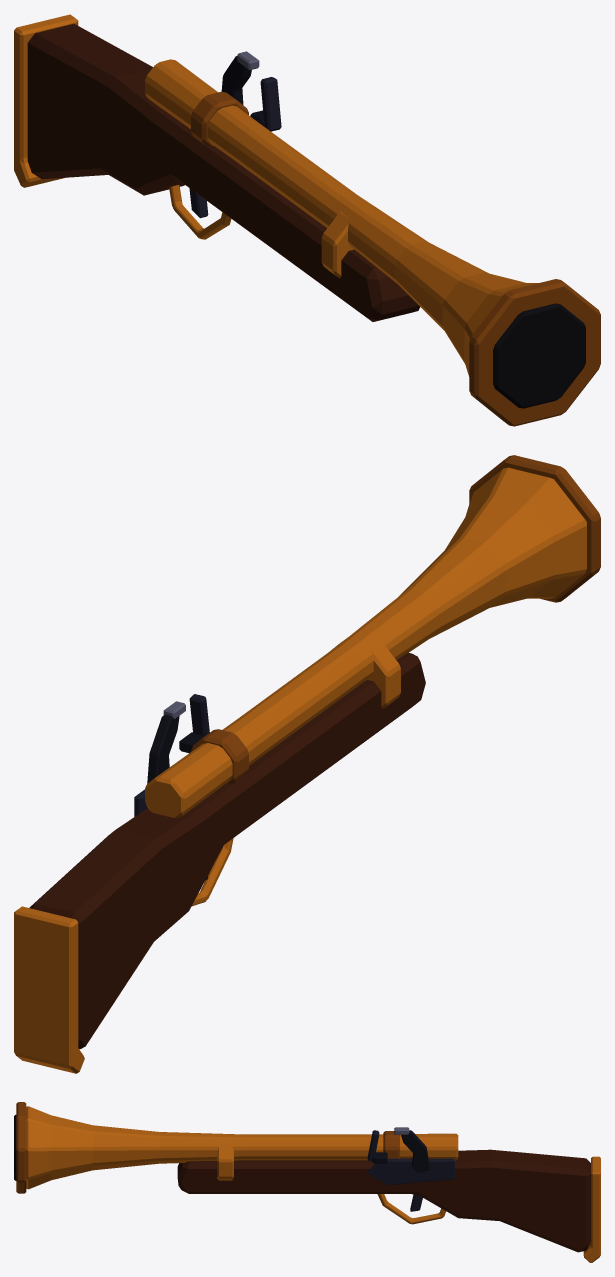
Rendered from myw_blunderbuss.obj.
The picture shows the model from 3 angles, top to bottom: view 1: azimuth 30°, elevation 25°; view 2: azimuth 150°, elevation 25°; view 3: azimuth 270°, elevation 25°; orthographic projection. The views are drawn at different scales.
Parts seen in each view (by area): view 1: Barrel, Stock, Fittings, Hammer, Lock; view 2: Barrel, Stock, Fittings, Hammer, Lock; view 3: Stock, Barrel, Fittings, Lock, Hammer.
Part boxes in pixels (box(x1,y1,x2,y2)): Barrel: box(145, 59, 600, 426); Stock: box(27, 24, 419, 321); Fittings: box(14, 14, 353, 278); Hammer: box(221, 51, 259, 104); Lock: box(250, 77, 281, 131); Barrel: box(145, 455, 600, 817); Stock: box(29, 652, 425, 1049); Fittings: box(14, 638, 400, 1073); Hammer: box(147, 701, 185, 783); Lock: box(134, 694, 209, 816); Stock: box(177, 1149, 590, 1252); Barrel: box(14, 1102, 458, 1193); Fittings: box(217, 1144, 600, 1262); Lock: box(367, 1130, 454, 1184); Hammer: box(394, 1127, 429, 1172).
Bounding box in the file's own units: 0.5174 × 0.9723 × 3.53.
